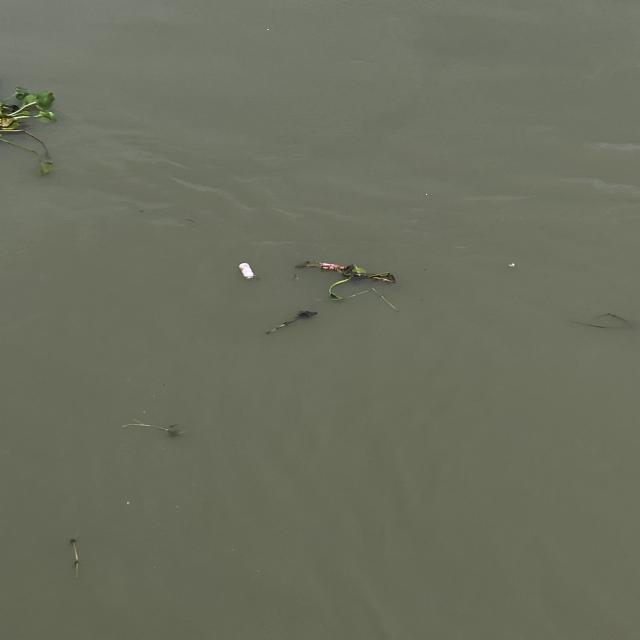Organic Debris: (2, 72, 84, 194), (309, 246, 418, 308), (41, 514, 106, 608), (101, 408, 199, 448)
Plastic: (219, 257, 267, 296), (310, 260, 353, 274)
